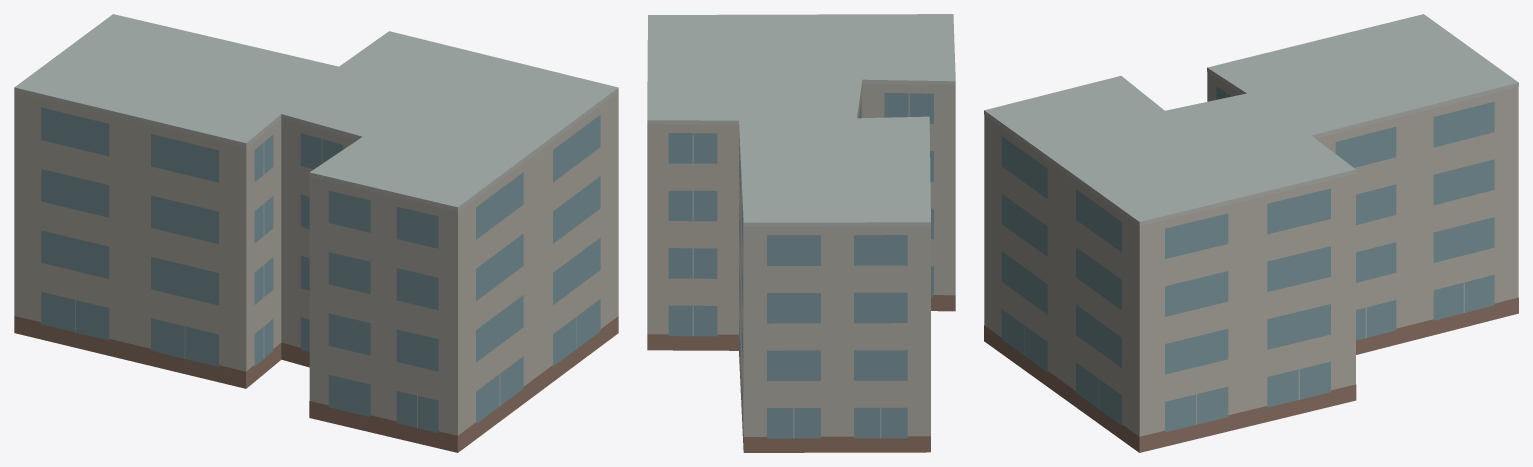
Rendered from survey-upis-32688907.glb.
3 views of the same model, side by side, from view 1: azimuth 30°, elevation 25°; view 2: azimuth 150°, elevation 25°; view 3: azimuth 270°, elevation 25° (orthographic). The views are drawn at different scales.
Parts seen in each view (by area): view 1: survey-upis-32688907.tmp; view 2: survey-upis-32688907.tmp; view 3: survey-upis-32688907.tmp.
Boxes of the visible parts, <box> form: survey-upis-32688907.tmp: <box>14,14,618,452</box>; survey-upis-32688907.tmp: <box>647,14,955,452</box>; survey-upis-32688907.tmp: <box>984,14,1518,452</box>.
Bounding box in the file's own units: 25.54 × 13.22 × 27.75.
